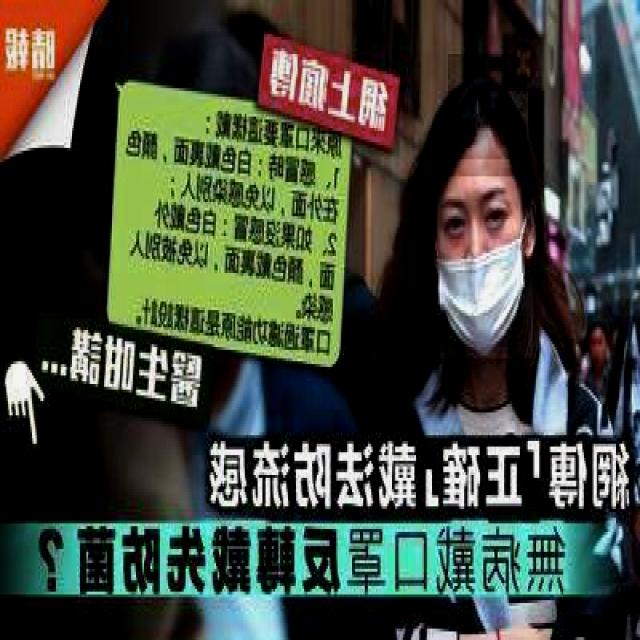face_mask: (435, 176, 533, 362)
head_nohelmet: (446, 54, 526, 162)
